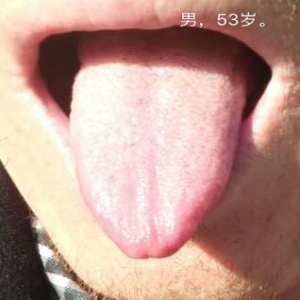st: (67, 61, 238, 263)
